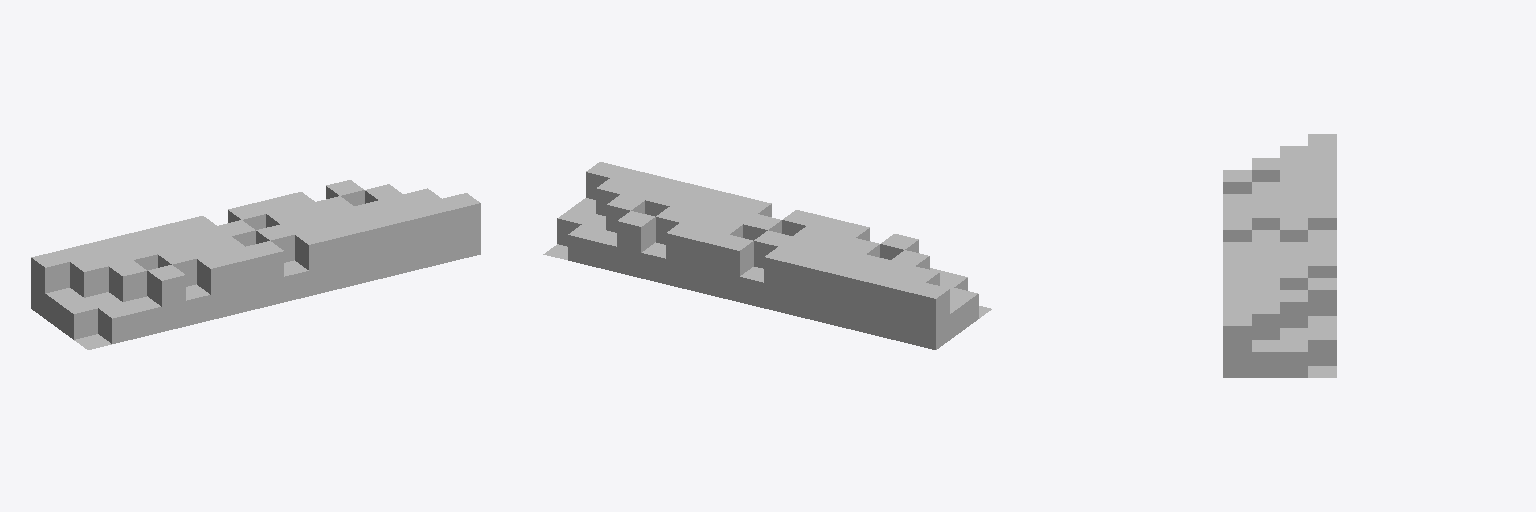
The picture shows the model from 3 angles: view 1: azimuth 30°, elevation 25°; view 2: azimuth 150°, elevation 25°; view 3: azimuth 270°, elevation 25°; orthographic projection.
Parts seen in each view (by area): view 1: Object(4,4)[length_2], Object(6,4)[length_2], Object(10,4)[length_2], Object(1,1)[length_2], Object(11,4)[length_2], Object(16,4)[length_2], Object(14,4)[length_2], Object(12,4)[length_2], Object(7,4)[length_2], Object(13,4)[length_2], Object(8,4)[length_2], Object(15,4)[length_2] (+14 smaller); view 2: Object(1,1)[length_2], Object(9,1)[length_2], Object(13,1)[length_2], Object(11,1)[length_2], Object(2,1)[length_2], Object(3,1)[length_2], Object(5,1)[length_2], Object(7,1)[length_2], Object(6,1)[length_2], Object(4,1)[length_2], Object(10,1)[length_2], Object(15,1)[length_1] (+14 smaller); view 3: Object(16,4)[length_2], Object(13,1)[length_2], Object(15,1)[length_1], Object(14,2)[length_2], Object(15,3)[length_2], Object(16,2)[length_1], Object(16,3)[length_1], Object(4,4)[length_2], Object(7,1)[length_2], Object(8,4)[length_2], Object(11,1)[length_2], Object(3,3)[length_2] (+3 smaller).
Part boxes in pixels (bbox=[...]): Object(4,4)[length_2]: bbox=[147, 265, 185, 331]; Object(6,4)[length_2]: bbox=[197, 253, 234, 319]; Object(10,4)[length_2]: bbox=[295, 229, 332, 295]; Object(1,1)[length_2]: bbox=[31, 252, 69, 318]; Object(11,4)[length_2]: bbox=[320, 223, 357, 289]; Object(16,4)[length_2]: bbox=[443, 193, 480, 259]; Object(14,4)[length_2]: bbox=[394, 205, 431, 271]; Object(12,4)[length_2]: bbox=[345, 217, 382, 283]; Object(7,4)[length_2]: bbox=[222, 247, 259, 313]; Object(13,4)[length_2]: bbox=[369, 211, 406, 277]; Object(8,4)[length_2]: bbox=[246, 241, 283, 307]; Object(15,4)[length_2]: bbox=[418, 199, 455, 265]; Object(1,1)[length_2]: bbox=[912, 283, 949, 349]; Object(9,1)[length_2]: bbox=[715, 235, 753, 301]; Object(13,1)[length_2]: bbox=[617, 211, 655, 277]; Object(11,1)[length_2]: bbox=[666, 223, 703, 289]; Object(2,1)[length_2]: bbox=[887, 277, 924, 343]; Object(3,1)[length_2]: bbox=[862, 271, 900, 337]; Object(5,1)[length_2]: bbox=[813, 259, 850, 325]; Object(7,1)[length_2]: bbox=[764, 247, 801, 313]; Object(6,1)[length_2]: bbox=[789, 253, 826, 319]; Object(4,1)[length_2]: bbox=[838, 265, 875, 331]; Object(10,1)[length_2]: bbox=[691, 229, 727, 295]; Object(15,1)[length_1]: bbox=[568, 225, 605, 265]; Object(16,4)[length_2]: bbox=[1223, 314, 1251, 377]; Object(13,1)[length_2]: bbox=[1308, 278, 1336, 315]; Object(15,1)[length_1]: bbox=[1308, 328, 1336, 365]; Object(14,2)[length_2]: bbox=[1280, 290, 1307, 327]; Object(15,3)[length_2]: bbox=[1252, 302, 1279, 339]; Object(16,2)[length_1]: bbox=[1280, 340, 1307, 377]; Object(16,3)[length_1]: bbox=[1252, 340, 1279, 377]; Object(4,4)[length_2]: bbox=[1223, 170, 1251, 193]; Object(7,1)[length_2]: bbox=[1308, 206, 1336, 229]; Object(8,4)[length_2]: bbox=[1223, 218, 1251, 241]; Object(11,1)[length_2]: bbox=[1308, 254, 1336, 277]; Object(3,3)[length_2]: bbox=[1252, 158, 1279, 181].
Size of the model in its own units: 16 by 2 by 4.